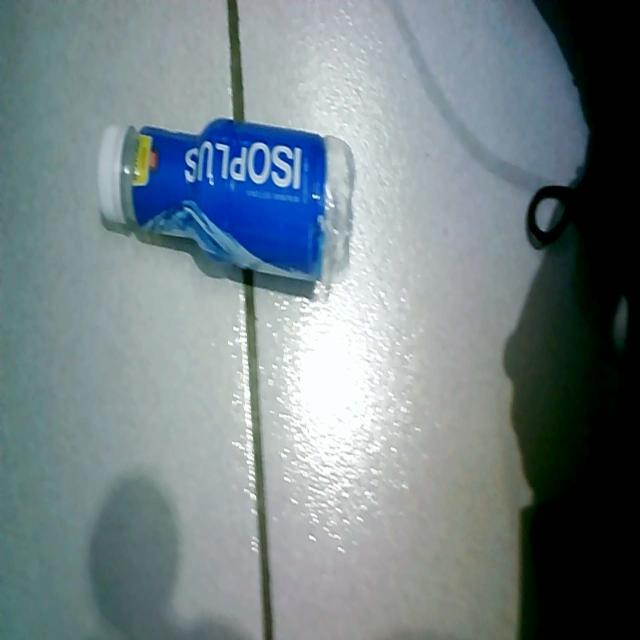botol: (90, 108, 362, 306)
